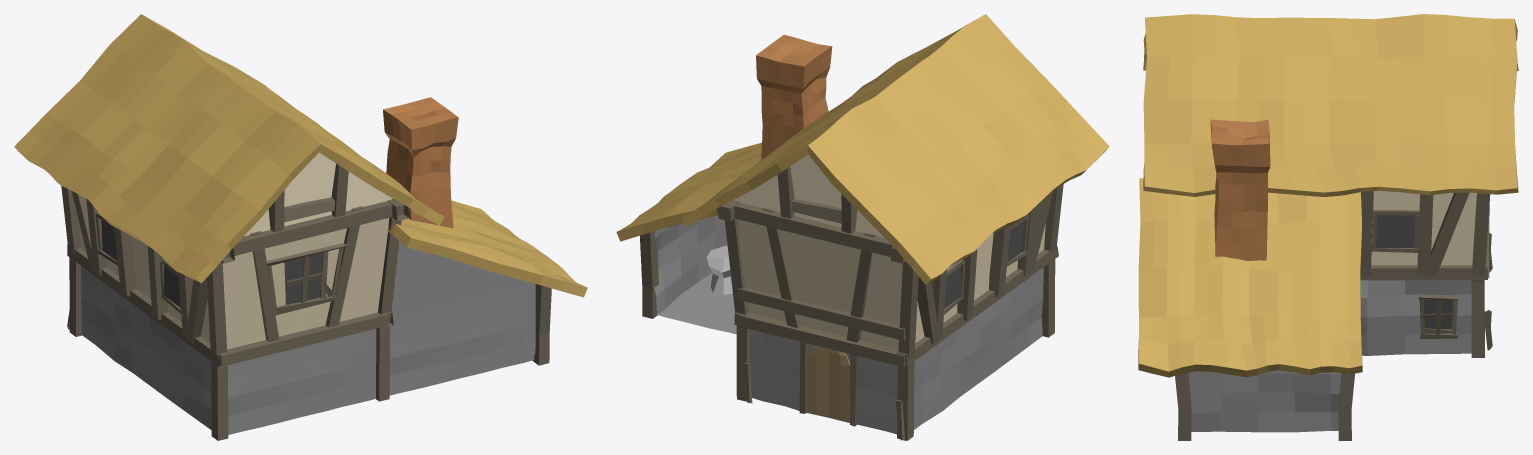
The model's file is forge.fbx.
3 views of the same model, side by side, from view 1: azimuth 30°, elevation 25°; view 2: azimuth 150°, elevation 25°; view 3: azimuth 270°, elevation 25° (orthographic). The views are drawn at different scales.
Parts seen in each view (by area): view 1: Plan.033; view 2: Plan.033; view 3: Plan.033.
Boxes of the visible parts, left/top/right/bottom form: Plan.033: left=14, top=14, right=587, bottom=440; Plan.033: left=616, top=14, right=1109, bottom=440; Plan.033: left=1138, top=14, right=1518, bottom=440.
Bounding box in the file's own units: 1136 × 819 × 911.
